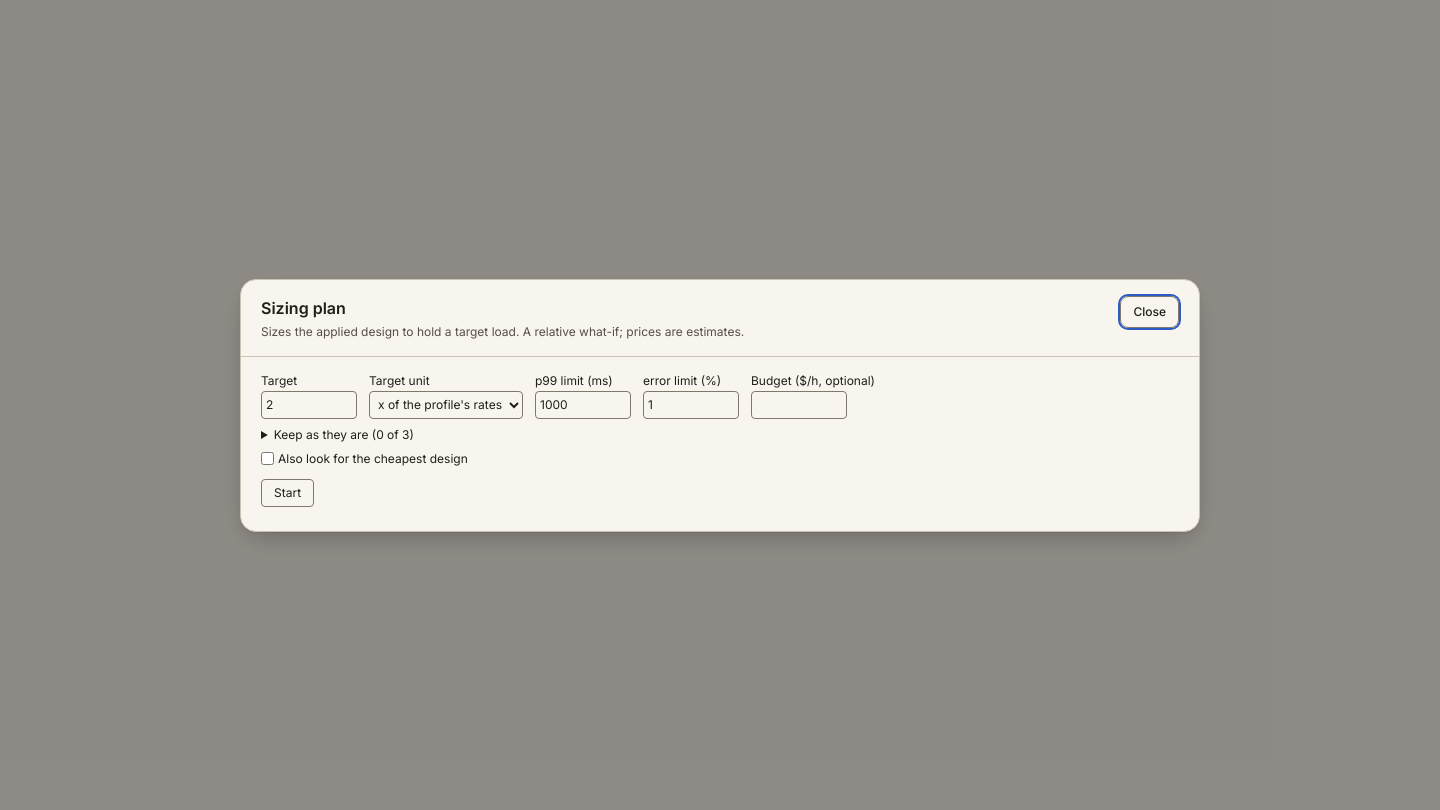
Test: a busy answer shows the server's reason as a plain note, not an alert
The width and height of the screenshot is (1440, 810).
What coordinates should you click on to do the following:
click the button "Start"
I would click on:
 (288, 492)
Its box is x1=261 y1=478 x2=314 y2=506.
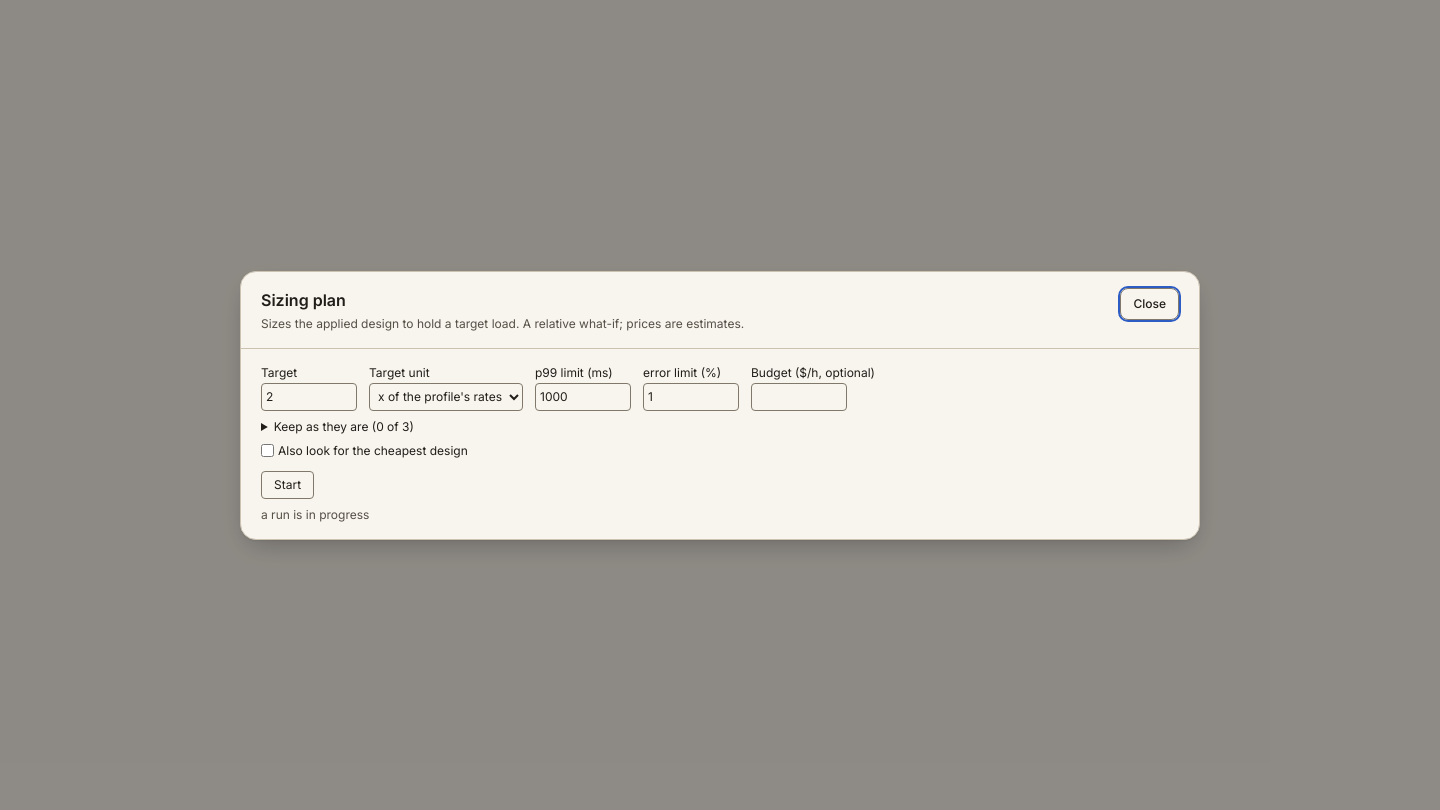
Expected: the text "a run is in progress" is shown, x1=261 y1=506 x2=369 y2=522
